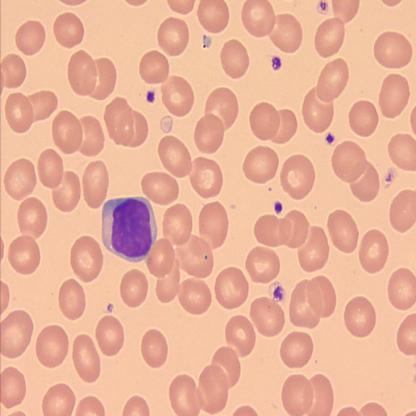Atypical lymphocyte: (103, 196, 156, 262)
